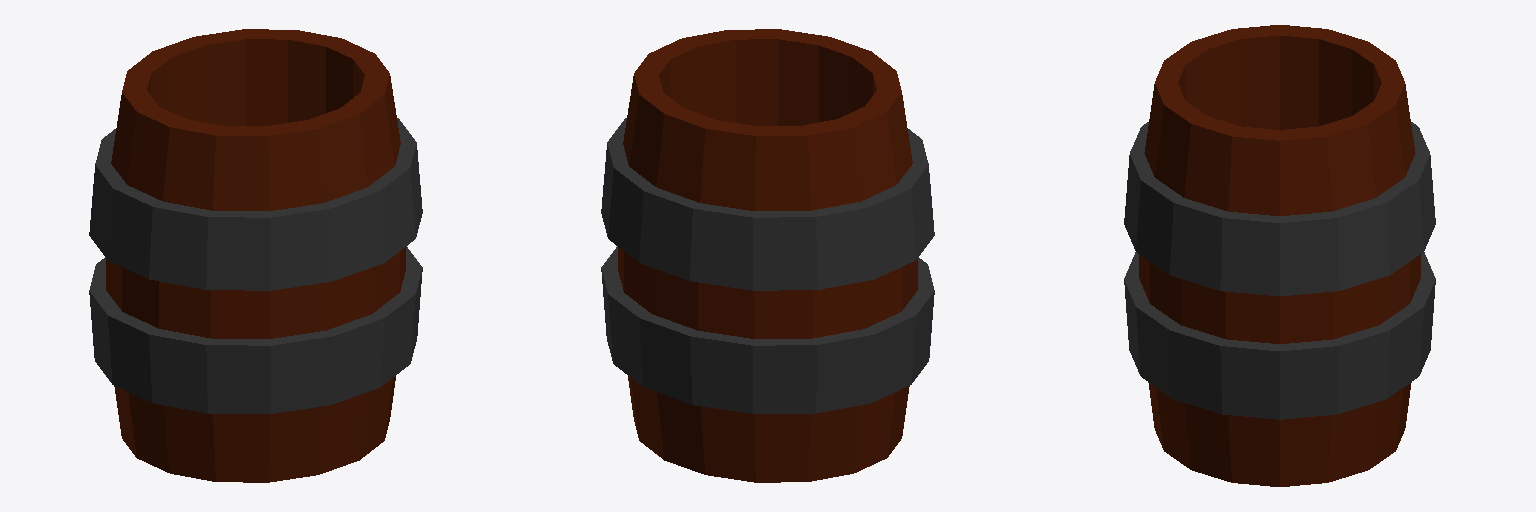
File: barrel_open_big.obj
3 renders of one model, left to right at view 1: azimuth 30°, elevation 25°; view 2: azimuth 150°, elevation 25°; view 3: azimuth 270°, elevation 25°, orthographic.
Visible parts, largest first — view 1: Cylinder.004; view 2: Cylinder.004; view 3: Cylinder.004.
Part boxes in pixels (left/top/right/bottom): Cylinder.004: left=89, top=29, right=422, bottom=482; Cylinder.004: left=601, top=29, right=934, bottom=482; Cylinder.004: left=1124, top=25, right=1435, bottom=486.
Bounding box in the file's own units: 2.73 × 3.05 × 2.49.